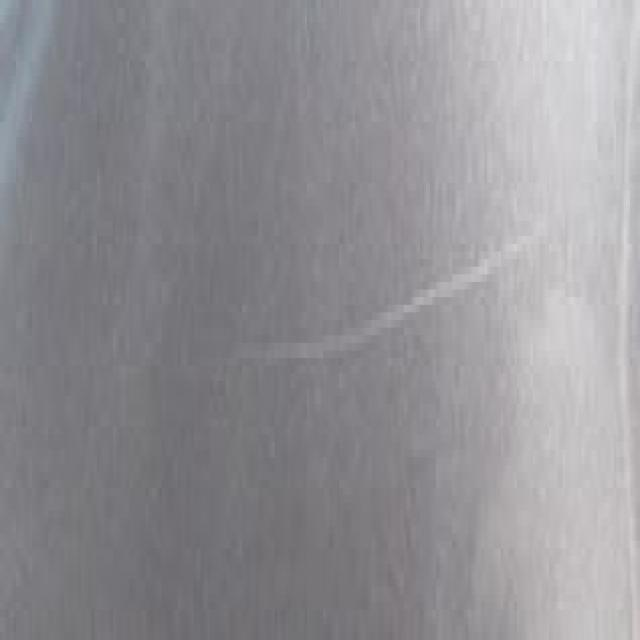scratch: (231, 190, 520, 450)
